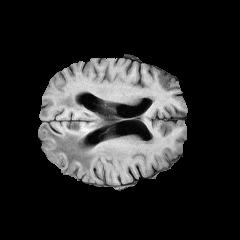glioma: (40, 94, 120, 171)
